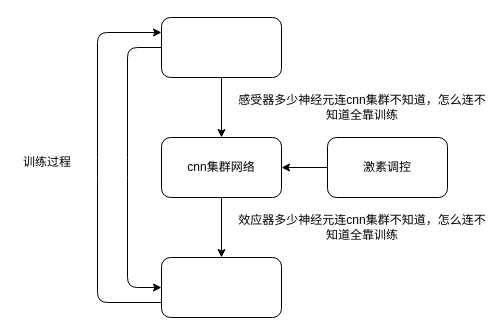
Some shapes in this 504 by 335 pixel diagram are drawn without their labels. Each missing label, with the centre of its shape:
"感受器" goes at (x=221, y=47).
"效应器" goes at (x=221, y=287).
